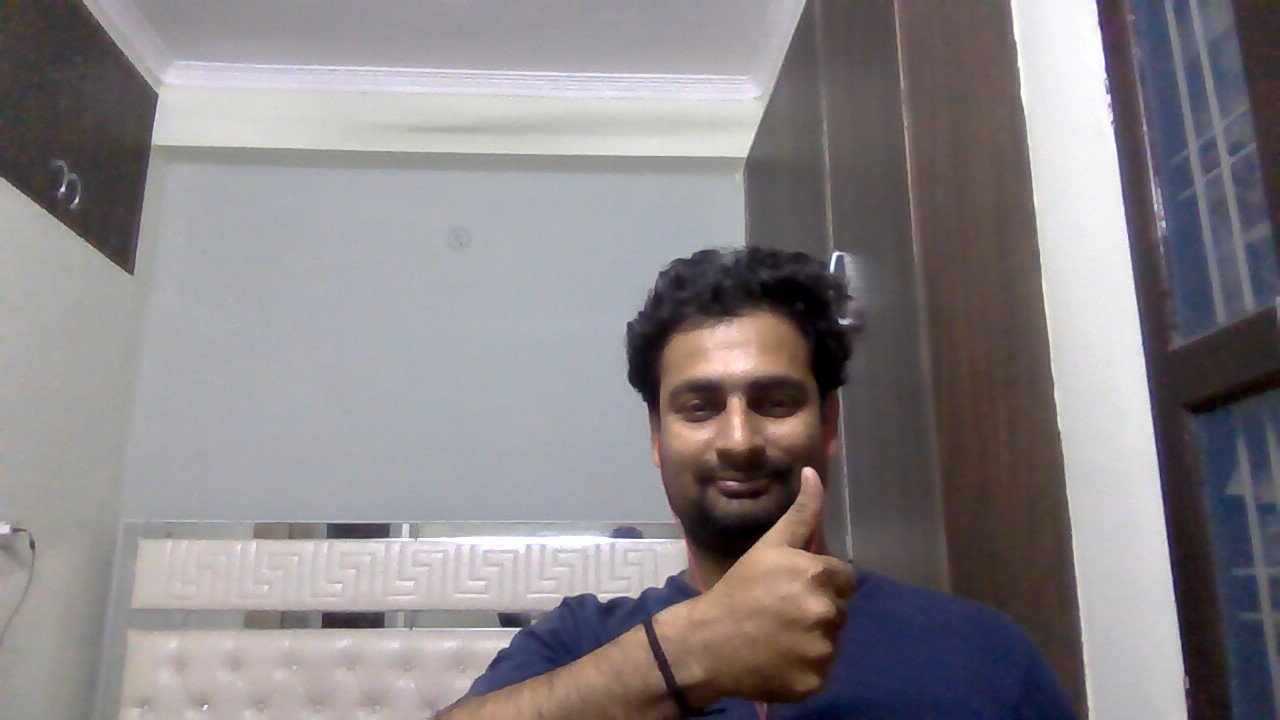Save: (684, 455, 868, 709)
